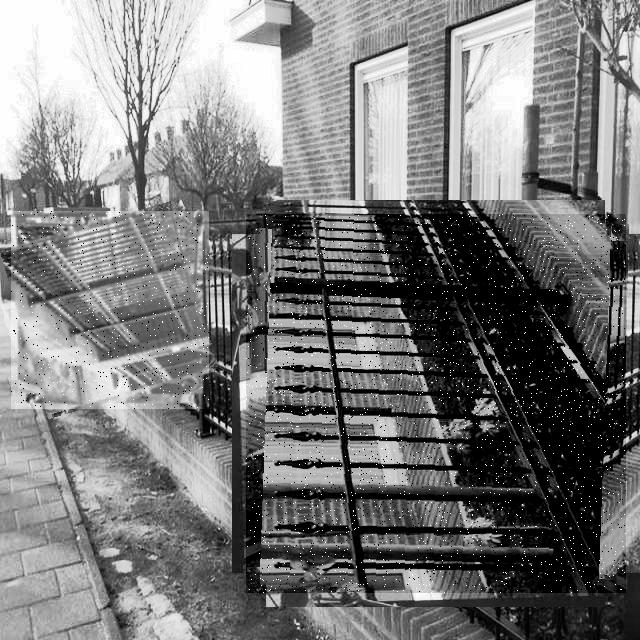fences: (246, 214, 626, 593), (11, 211, 209, 409)
